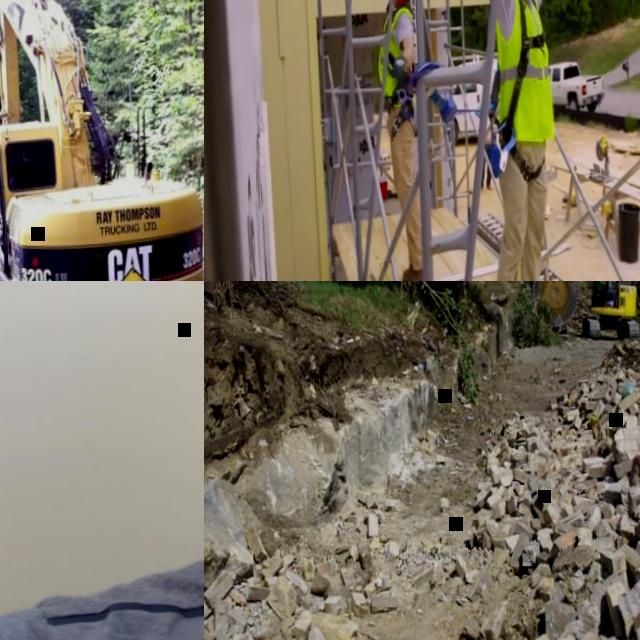NO-Safety Vest: (0, 548, 204, 640)
Person: (0, 281, 204, 640), (477, 0, 559, 281), (374, 0, 425, 281)
Safety Vest: (494, 0, 555, 145), (376, 5, 414, 107)
machinery: (0, 0, 204, 281), (523, 281, 639, 345)
vehicle: (448, 57, 500, 143), (548, 62, 604, 114)
